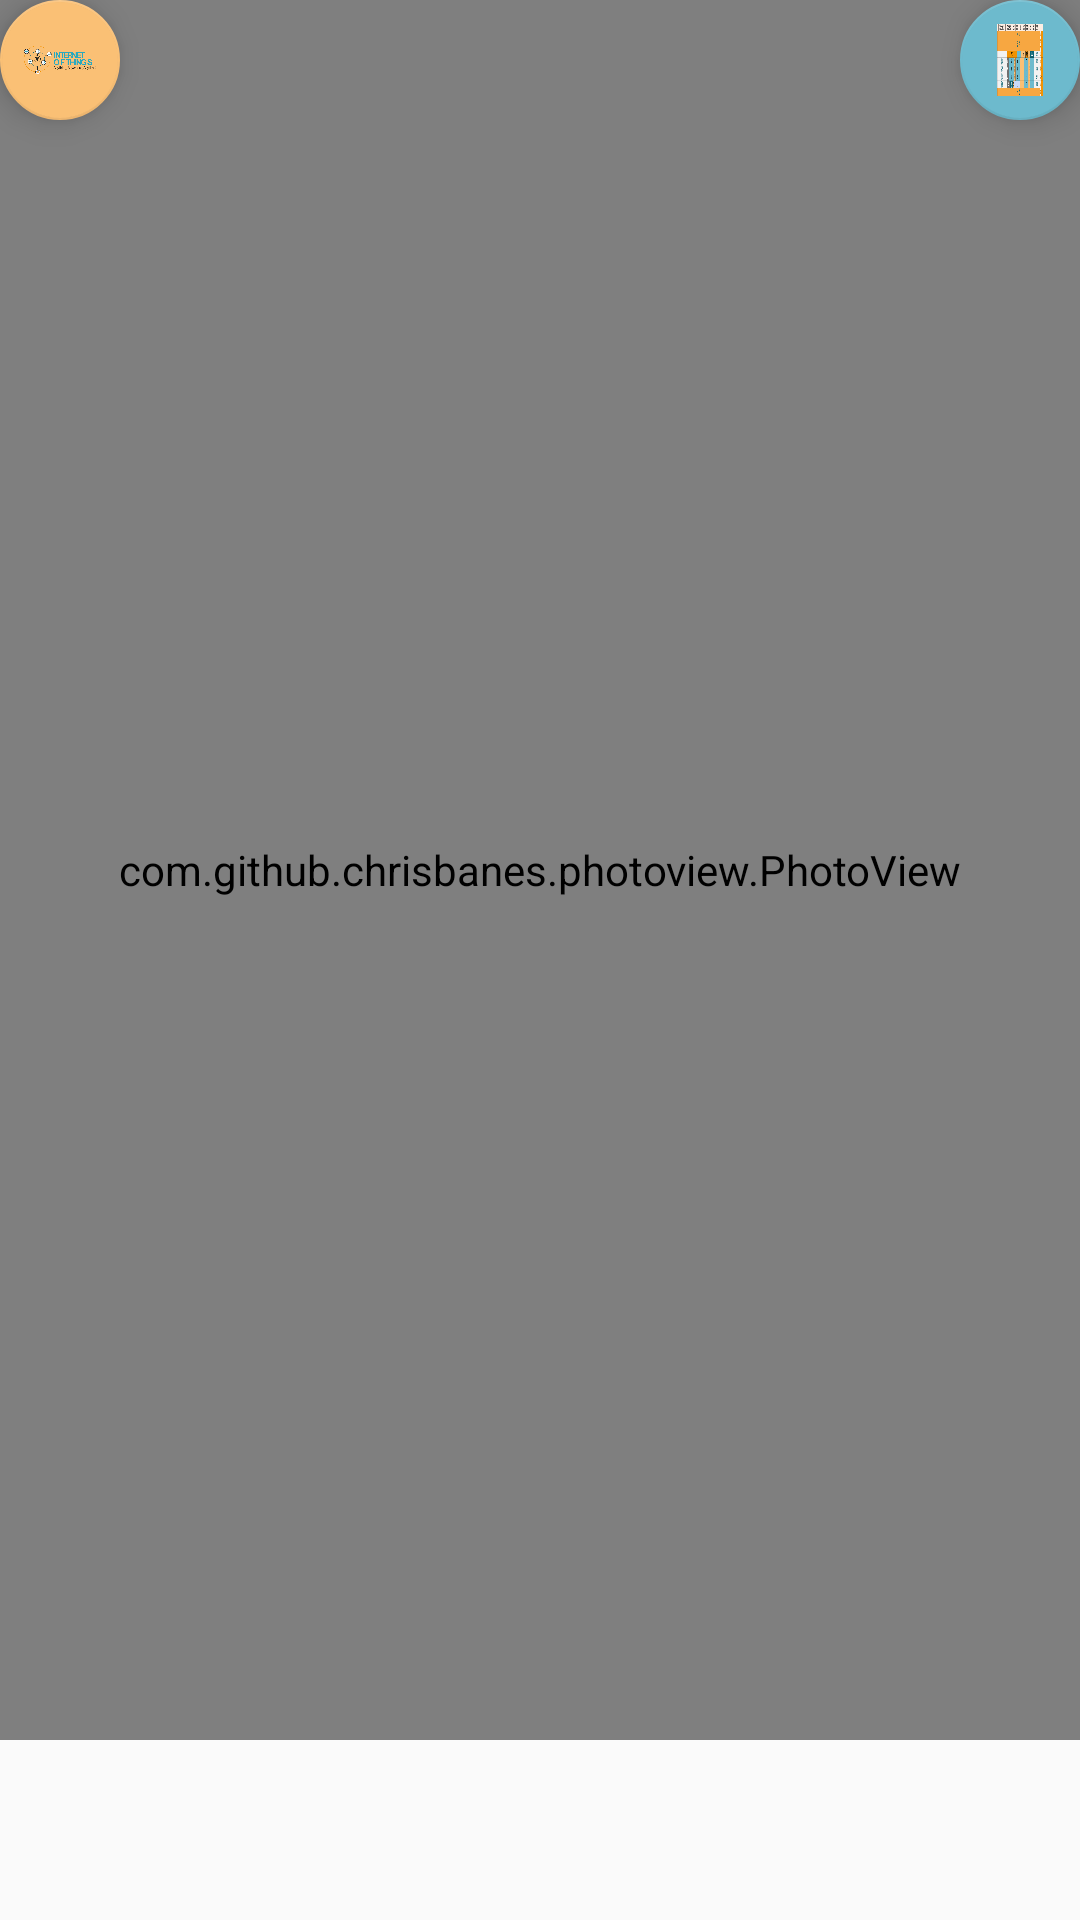

Point at icon controls on the screen. Image size 1080*1920, points as [x,y].
schedule: [1020,60]
